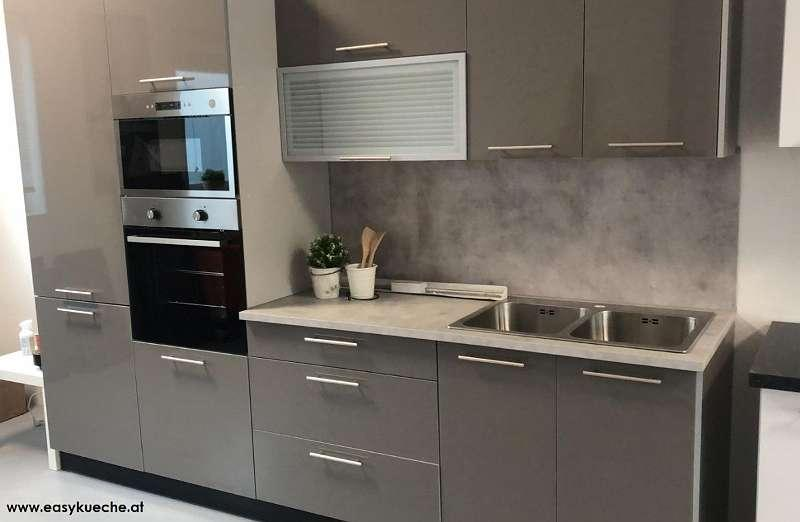cabinet_door: (18, 0, 124, 302), (589, 0, 732, 153), (554, 362, 684, 522), (445, 349, 554, 522), (471, 4, 586, 160), (288, 66, 467, 164), (138, 346, 252, 474), (39, 303, 132, 451), (257, 373, 436, 445), (259, 449, 432, 512), (283, 0, 465, 57), (113, 2, 225, 91), (254, 329, 430, 370), (762, 402, 800, 521), (124, 197, 235, 224)
handle: (125, 231, 224, 253), (597, 134, 691, 156), (582, 366, 667, 389), (457, 352, 529, 373), (485, 139, 557, 158), (302, 371, 362, 392), (306, 450, 364, 470), (302, 333, 359, 352), (334, 40, 393, 56), (136, 71, 191, 87), (335, 148, 393, 163), (159, 354, 207, 372), (51, 284, 99, 300), (54, 304, 96, 321), (192, 207, 208, 223), (143, 207, 159, 221)
